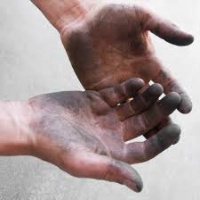ring: (110, 81, 166, 123)
